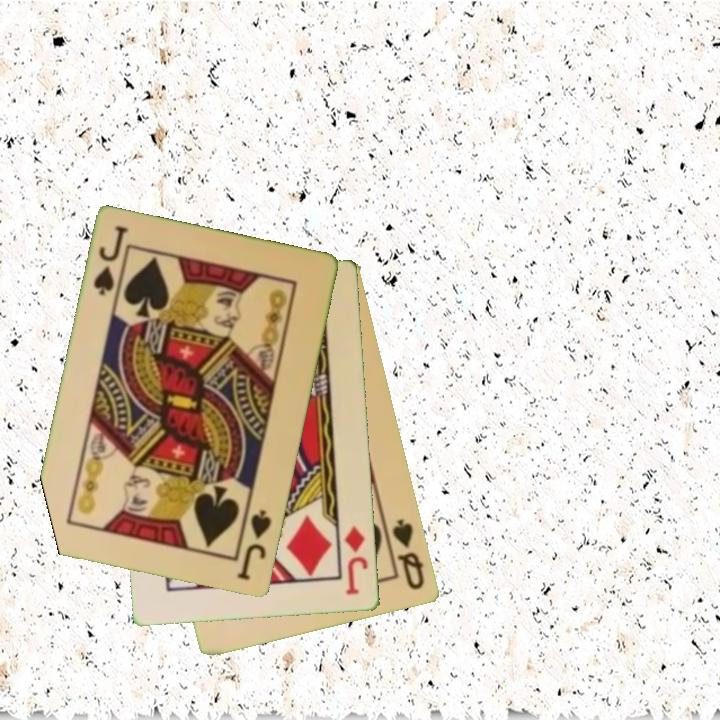Jd: (341, 522, 371, 598)
Js: (234, 506, 275, 584), (90, 222, 131, 299)
Qs: (389, 515, 428, 593)
